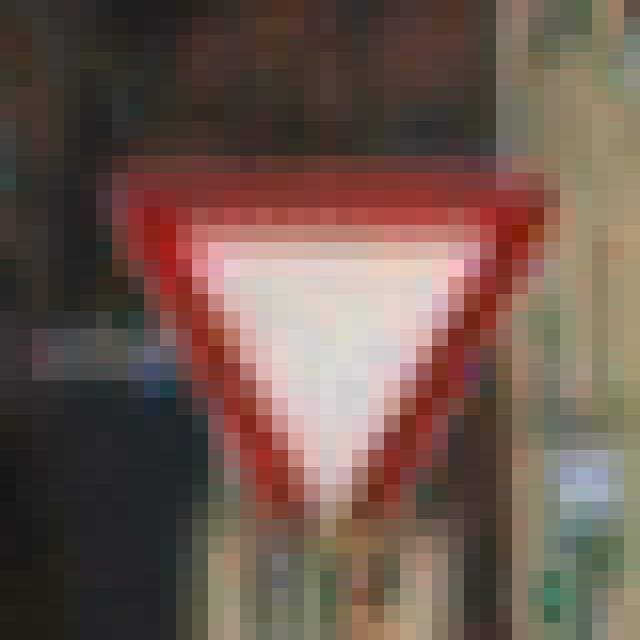Give Way: (81, 105, 545, 554)
